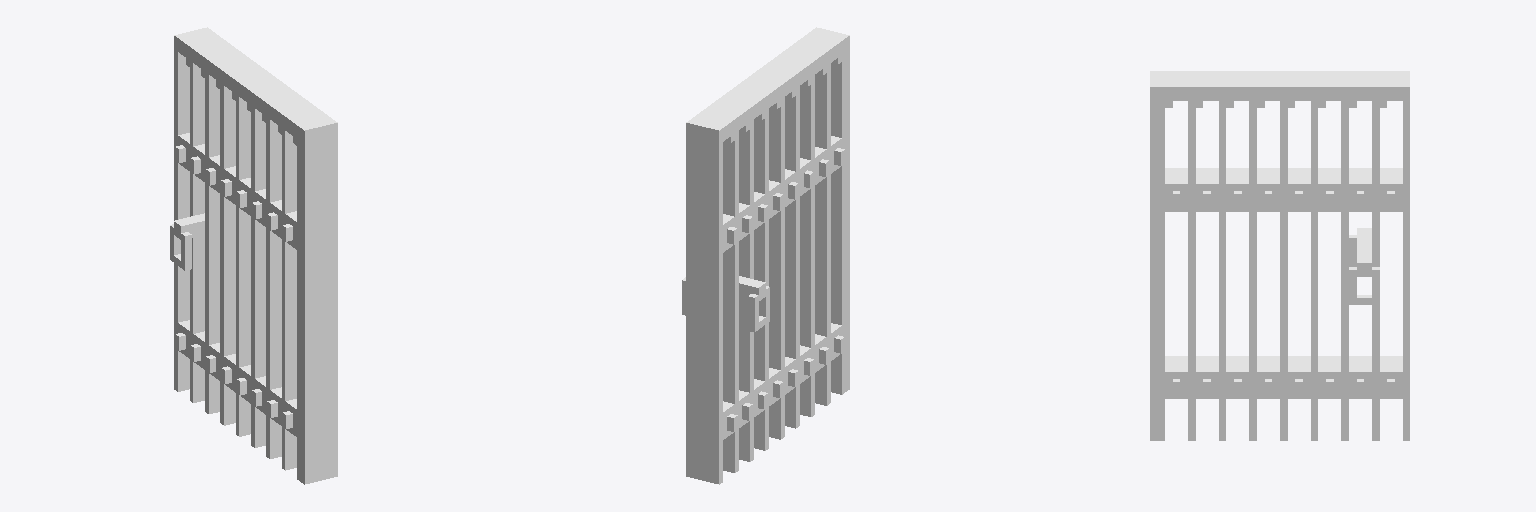
Rendered from kraty.obj.
3 views of the same model, side by side, from view 1: azimuth 30°, elevation 25°; view 2: azimuth 150°, elevation 25°; view 3: azimuth 270°, elevation 25° (orthographic).
Parts seen in each view (by area): view 1: object 1; view 2: object 1; view 3: object 1.
Part boxes in pixels (x1,y1,x2,y2): object 1: (170, 27, 337, 484); object 1: (682, 27, 849, 484); object 1: (1150, 71, 1409, 440).
Size of the model in its own units: 1.1 by 5.1 by 3.4.